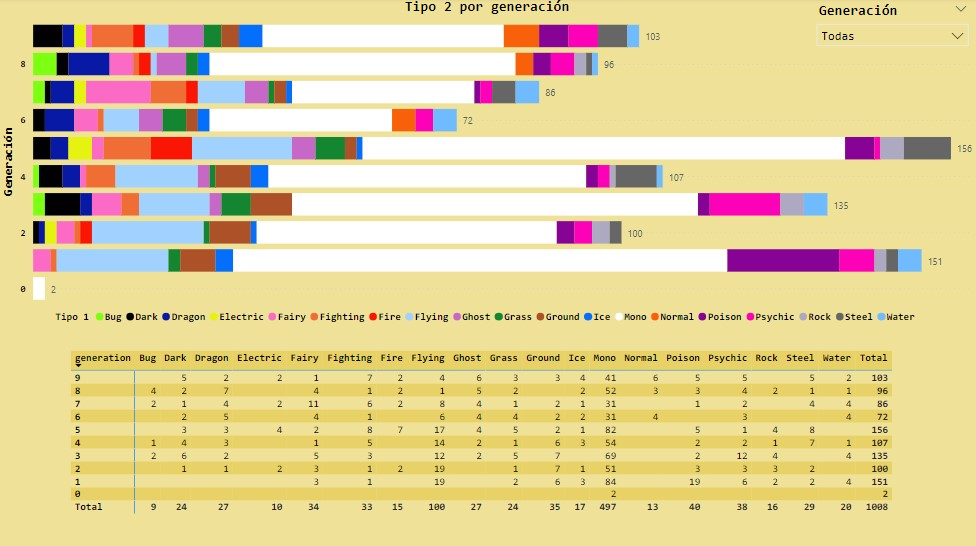

This screenshot's page, from the dashboard's own definition file:
{"tool":"powerbi","page":{"name":"Tipo2/generación","canvas":[1280,720],"ordinal":2},"visuals":[{"type":"slicer","fields":{"Values":["poke.generation","poke.number"]},"box":[1061.7,0,218.6,72],"z":0},{"type":"pivotTable","fields":{"Rows":["poke.generation"],"Columns":["poke.type2"],"Values":["CountNonNull(poke.type2)"]},"box":[90.3,456.9,1099.6,227.8],"z":1000},{"type":"barChart","title":"Tipo 2 por generación","fields":{"Category":["poke.generation"],"Series":["poke.type2"],"Y":["CountNonNull(poke.type2)"]},"box":[0,0,1280.3,435.9],"z":2000},{"type":"slicer","fields":{"Values":["poke.generation","poke.number"]},"box":[1061.4,0,218.6,72],"z":2001}]}

Visuals, with their boxes in screenshot pixels (x1, y1, x2, y2), scaled from the page's 1280x720 canvas onto the 976x546 screenshot:
slicer - poke.generation x poke.number: (x1=810, y1=0, x2=975, y2=55)
pivotTable - poke.generation x poke.type2: (x1=69, y1=346, x2=907, y2=519)
"Tipo 2 por generación" barChart: (x1=0, y1=0, x2=975, y2=331)
slicer - poke.generation x poke.number: (x1=809, y1=0, x2=975, y2=55)
